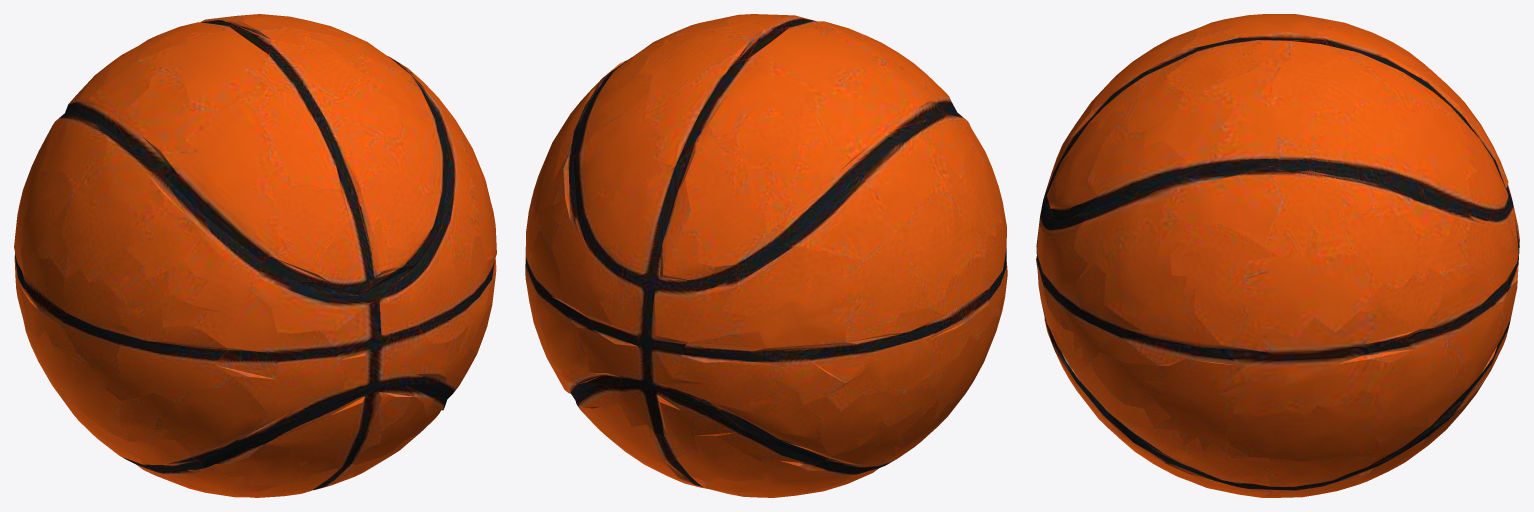
3 renders of one model, left to right at view 1: azimuth 30°, elevation 25°; view 2: azimuth 150°, elevation 25°; view 3: azimuth 270°, elevation 25°, orthographic.
Visible parts, largest first — view 1: output_unwrapped; view 2: output_unwrapped; view 3: output_unwrapped.
Boxes of the visible parts, left/top/right/bottom form: output_unwrapped: left=14, top=14, right=496, bottom=497; output_unwrapped: left=525, top=14, right=1007, bottom=497; output_unwrapped: left=1036, top=14, right=1519, bottom=497.
Size of the model in its own units: 1.9 by 1.9 by 1.9.
Materials: 1 (1 with a texture image).
